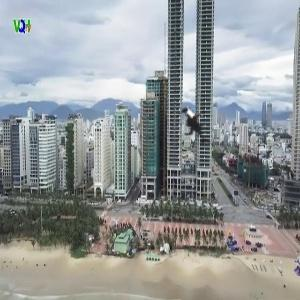drone: (165, 90, 236, 161)
